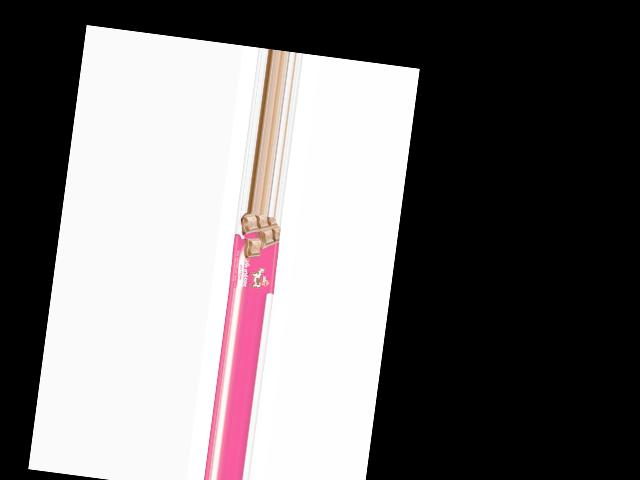chocolate: (226, 211, 282, 295)
